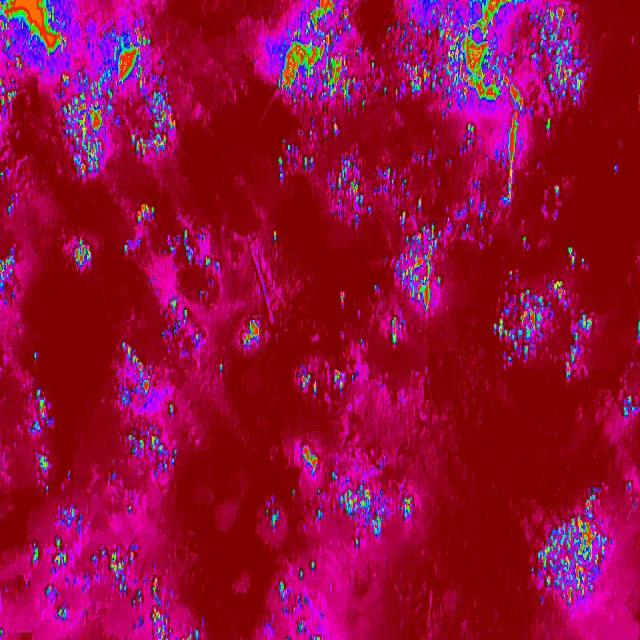fire: (271, 0, 594, 128), (0, 0, 185, 182), (258, 437, 412, 640), (118, 220, 232, 482), (268, 129, 536, 221), (21, 506, 192, 640), (488, 230, 602, 388), (288, 276, 406, 406), (531, 479, 637, 618), (18, 348, 62, 503), (384, 218, 448, 314), (62, 237, 97, 274), (241, 310, 268, 355), (0, 245, 20, 301), (130, 199, 158, 233)
